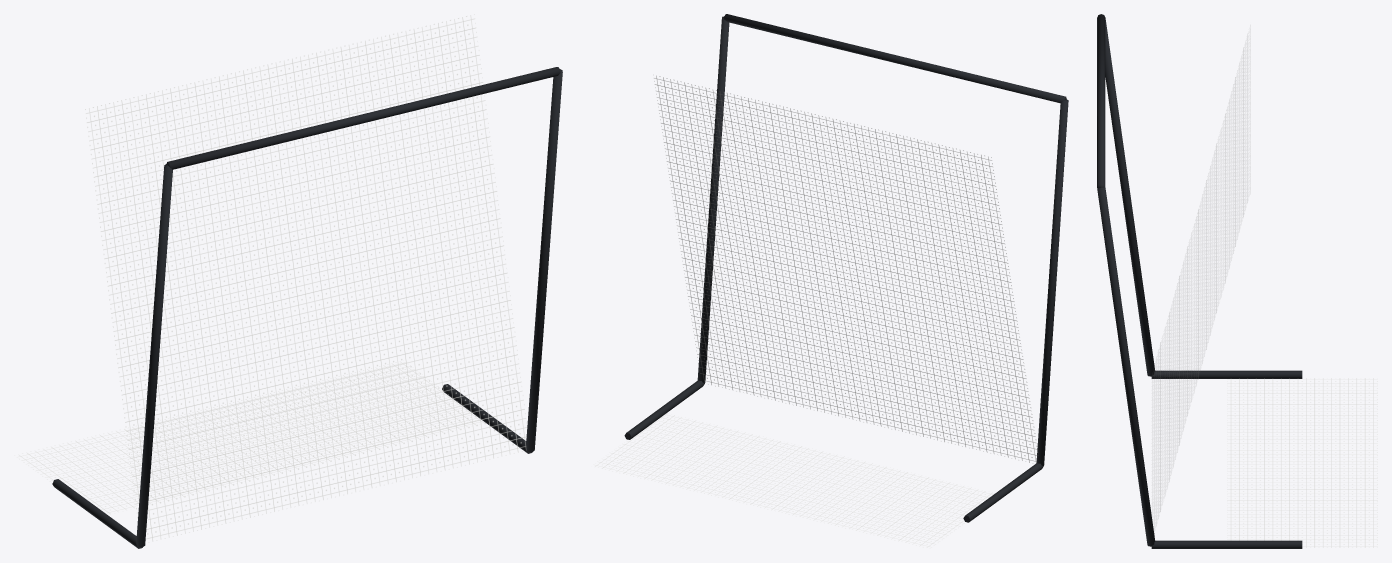
Rendered from kicking_net.glb.
The picture shows the model from 3 angles, left to right: view 1: azimuth 30°, elevation 25°; view 2: azimuth 150°, elevation 25°; view 3: azimuth 270°, elevation 25°; orthographic projection. The views are drawn at different scales.
Parts seen in each view (by area): view 1: kicking_net.001; view 2: kicking_net.001; view 3: kicking_net.001.
Boxes of the visible parts, left/top/right/bottom form: kicking_net.001: left=14, top=14, right=562, bottom=548; kicking_net.001: left=595, top=14, right=1068, bottom=547; kicking_net.001: left=1097, top=14, right=1377, bottom=548.
Bounding box in the file's own units: 2.45 × 2.4 × 1.67.
2 materials, 1 textured.
